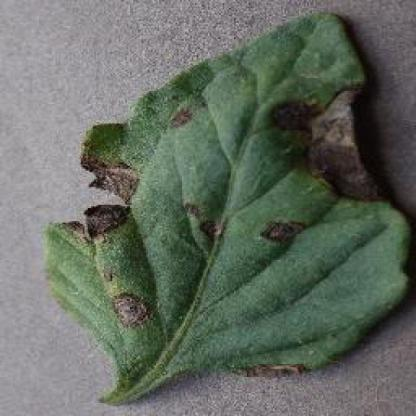Tomato_Blight: (46, 15, 408, 377)
